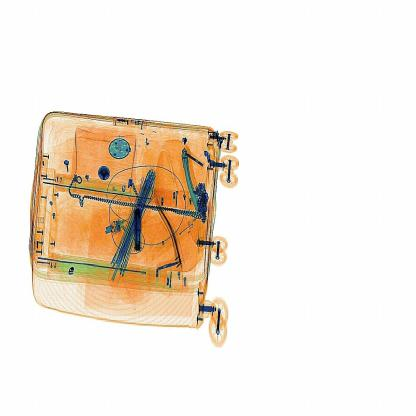scissors: (132, 206, 146, 258)
